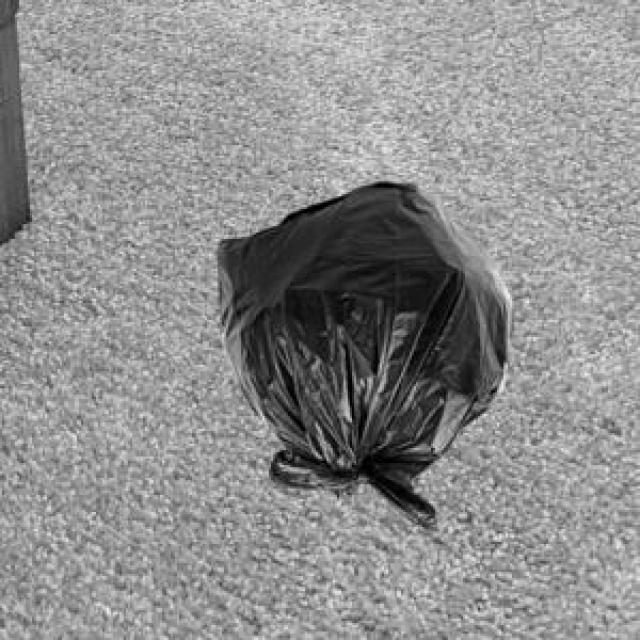miscellaneous trash: (213, 179, 510, 527)
